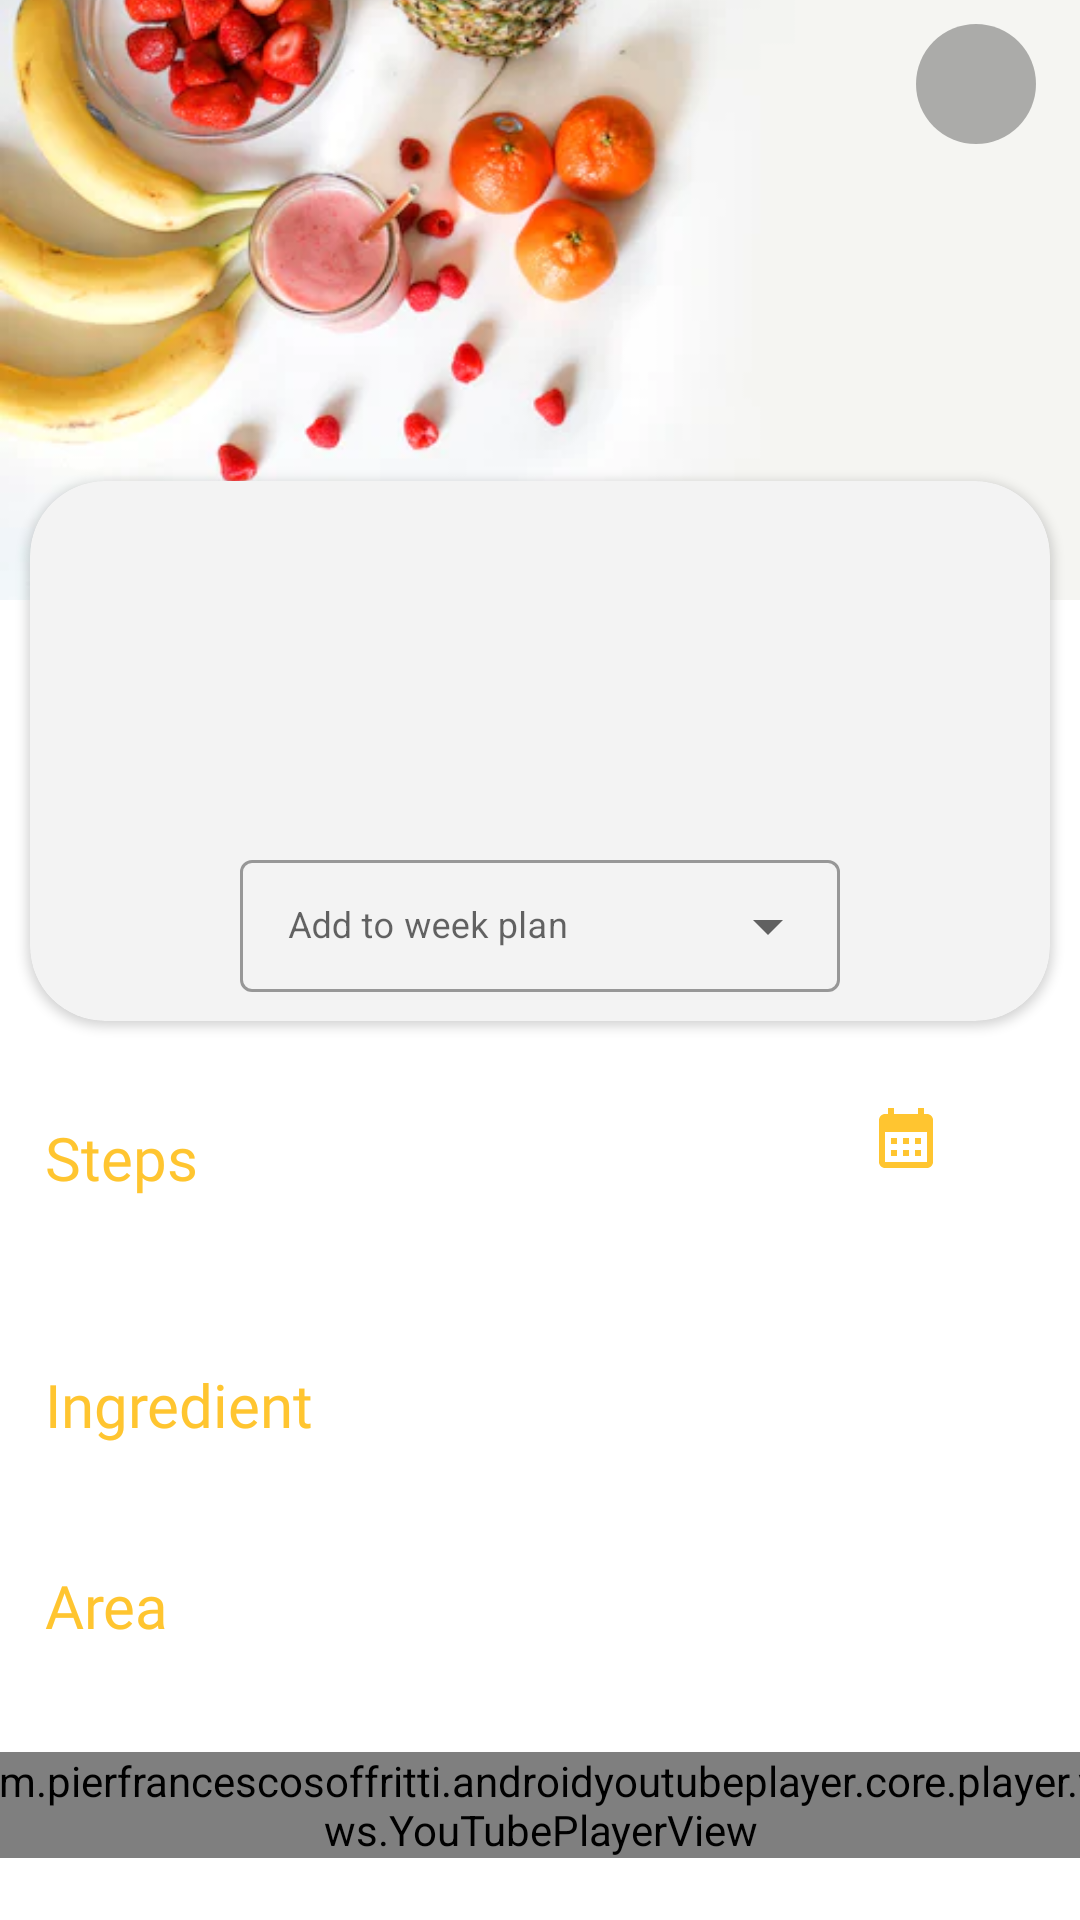

Named icons in this screenshot (1080px×1920px) and their bounding boxes, (x1, y1, x2, y2):
calendar month: (879, 1108, 933, 1168)
